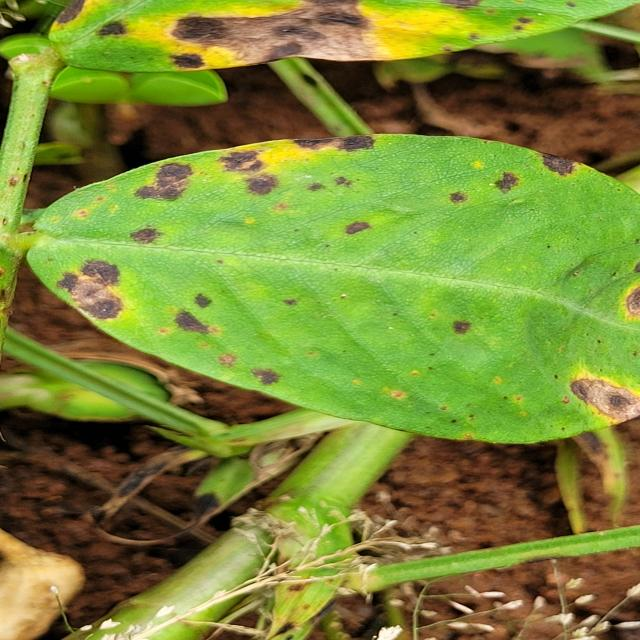Ground nut_tikka leaf spot: (34, 131, 640, 440)
